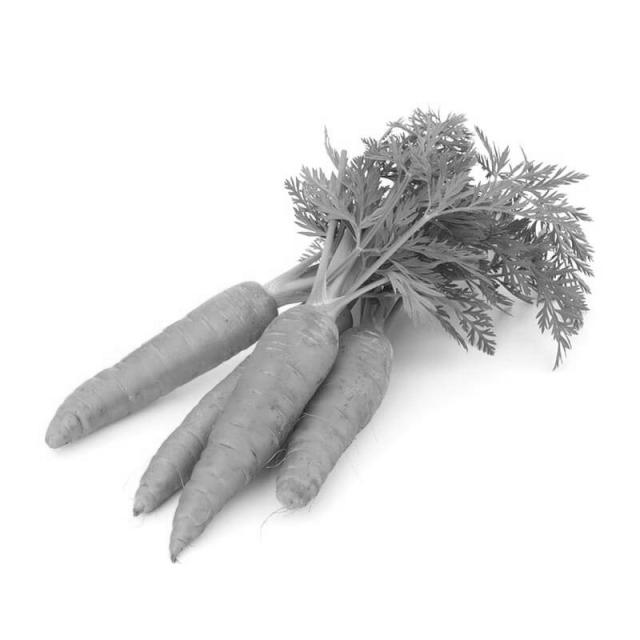Fresh_Carrot: (140, 312, 356, 561), (32, 307, 282, 438)
